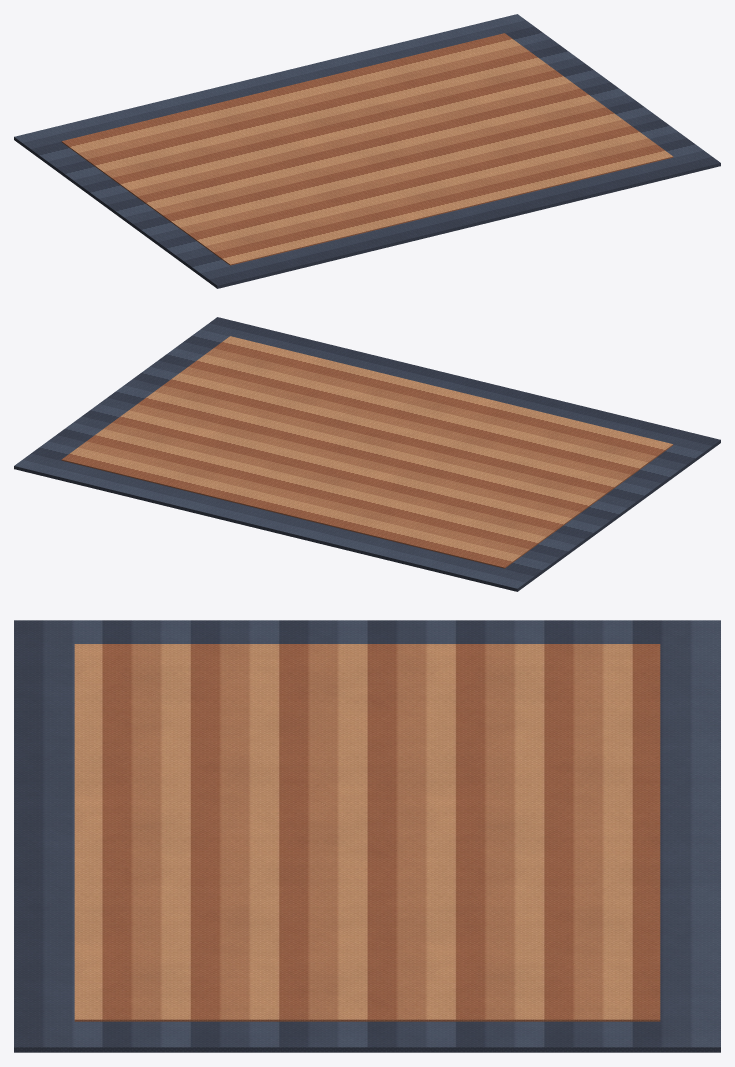
3 views of the same model, one above another, from view 1: azimuth 30°, elevation 25°; view 2: azimuth 150°, elevation 25°; view 3: azimuth 270°, elevation 25° (orthographic). The views are drawn at different scales.
Parts seen in each view (by area): view 1: Rug_Game; view 2: Rug_Game; view 3: Rug_Game.
Boxes of the visible parts, box(x1,y1,x2,y2) form: Rug_Game: box(14, 14, 720, 288); Rug_Game: box(14, 317, 720, 591); Rug_Game: box(14, 620, 720, 1052).
Size of the model in its own units: 2 by 0.016 by 1.4.
Materials: 2 (2 with a texture image).
